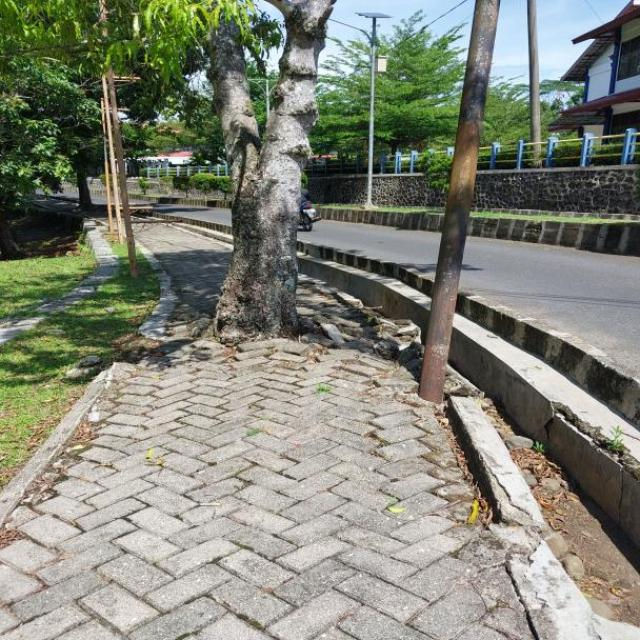tree ahead at: (186, 0, 336, 333)
